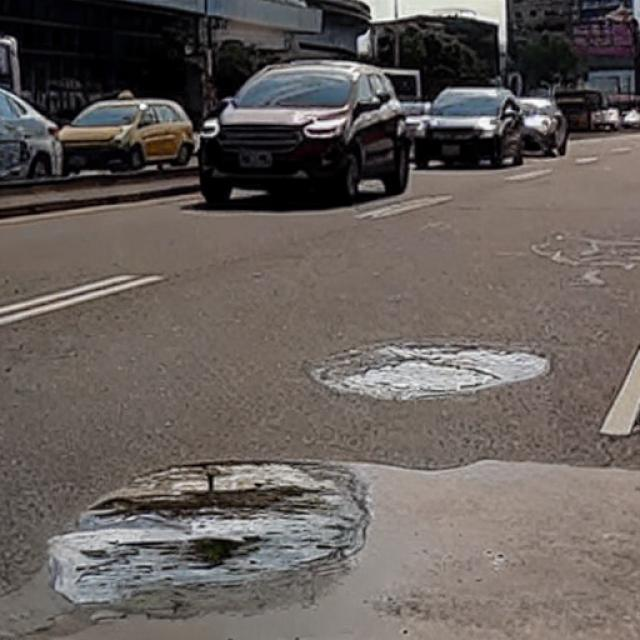puddle: (51, 458, 370, 621), (312, 343, 551, 402)
